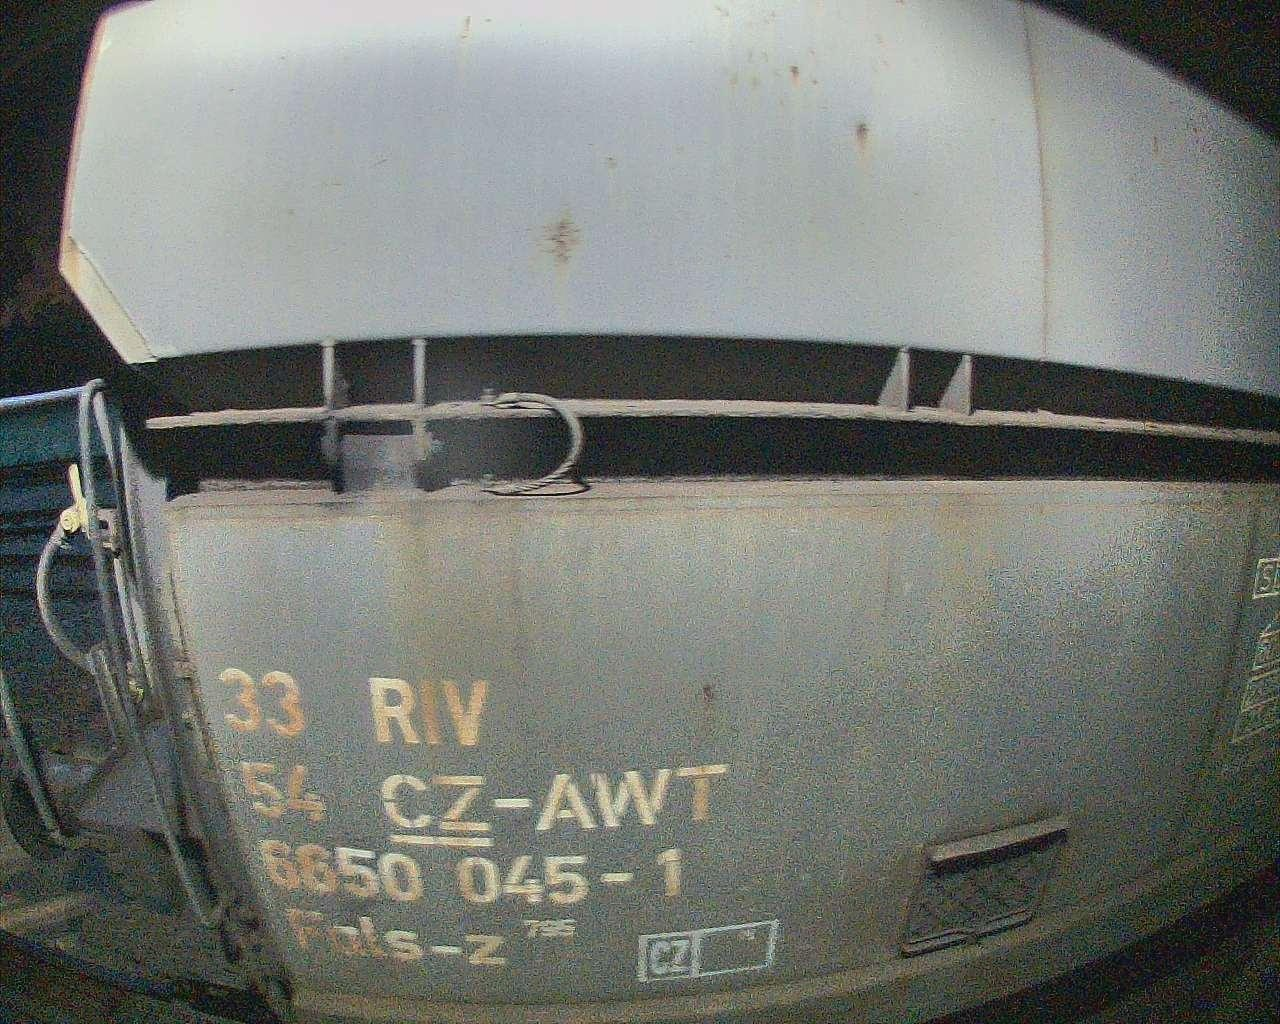UIC: (215, 664, 731, 969)
